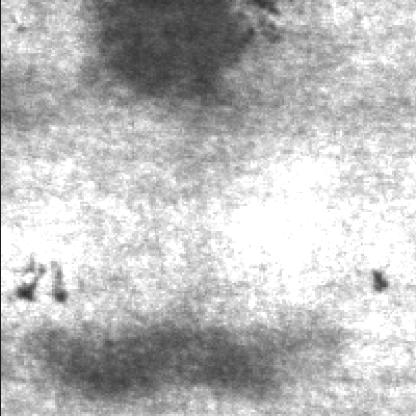patches: (77, 0, 283, 102), (69, 326, 283, 398)
